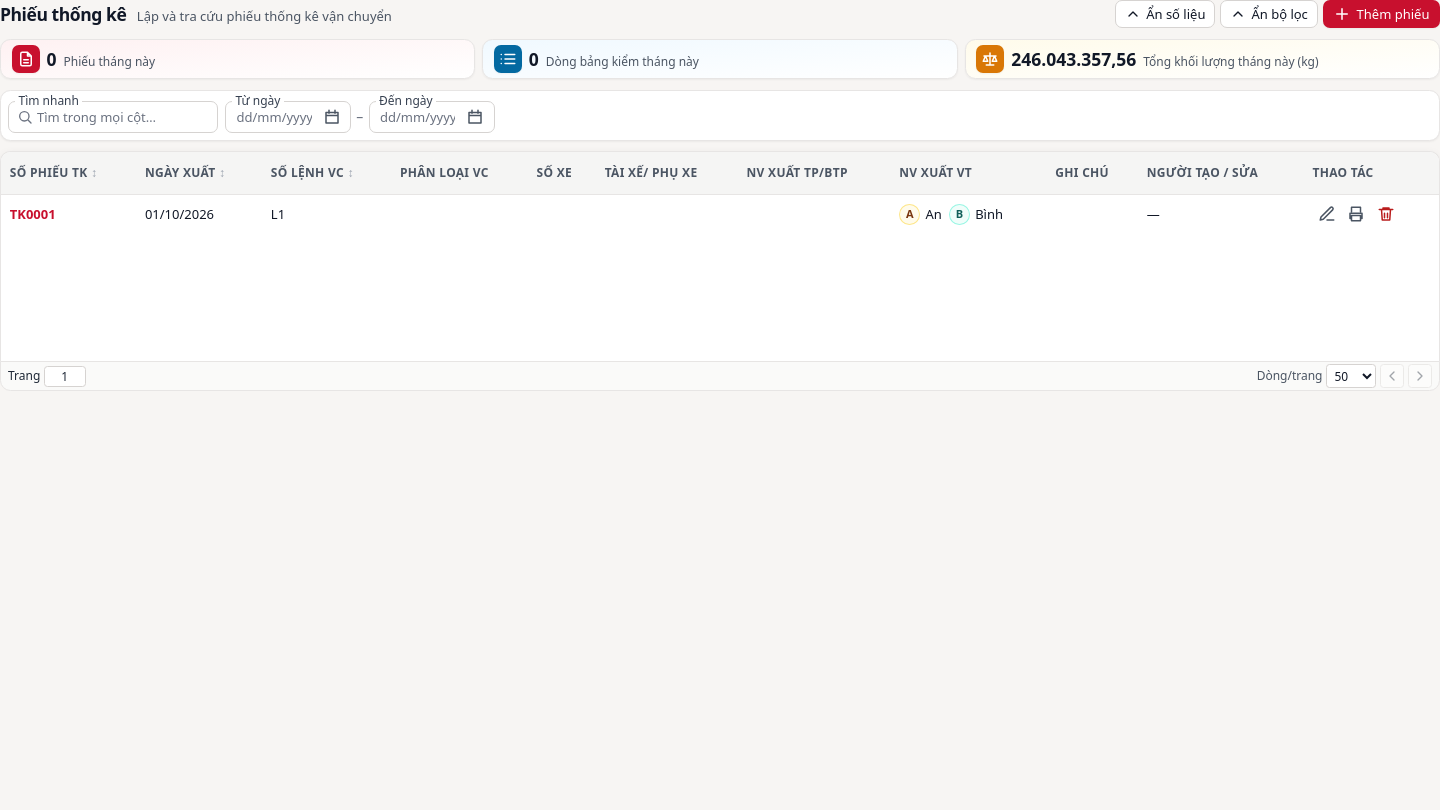
Test case: PlansPage › Sửa mở modal đổ sẵn dữ liệu; Hủy khi chưa đổi thì đóng không hỏi
Click the button with test id "edit-TK0001": (1326, 214) [1312, 200, 1340, 228]
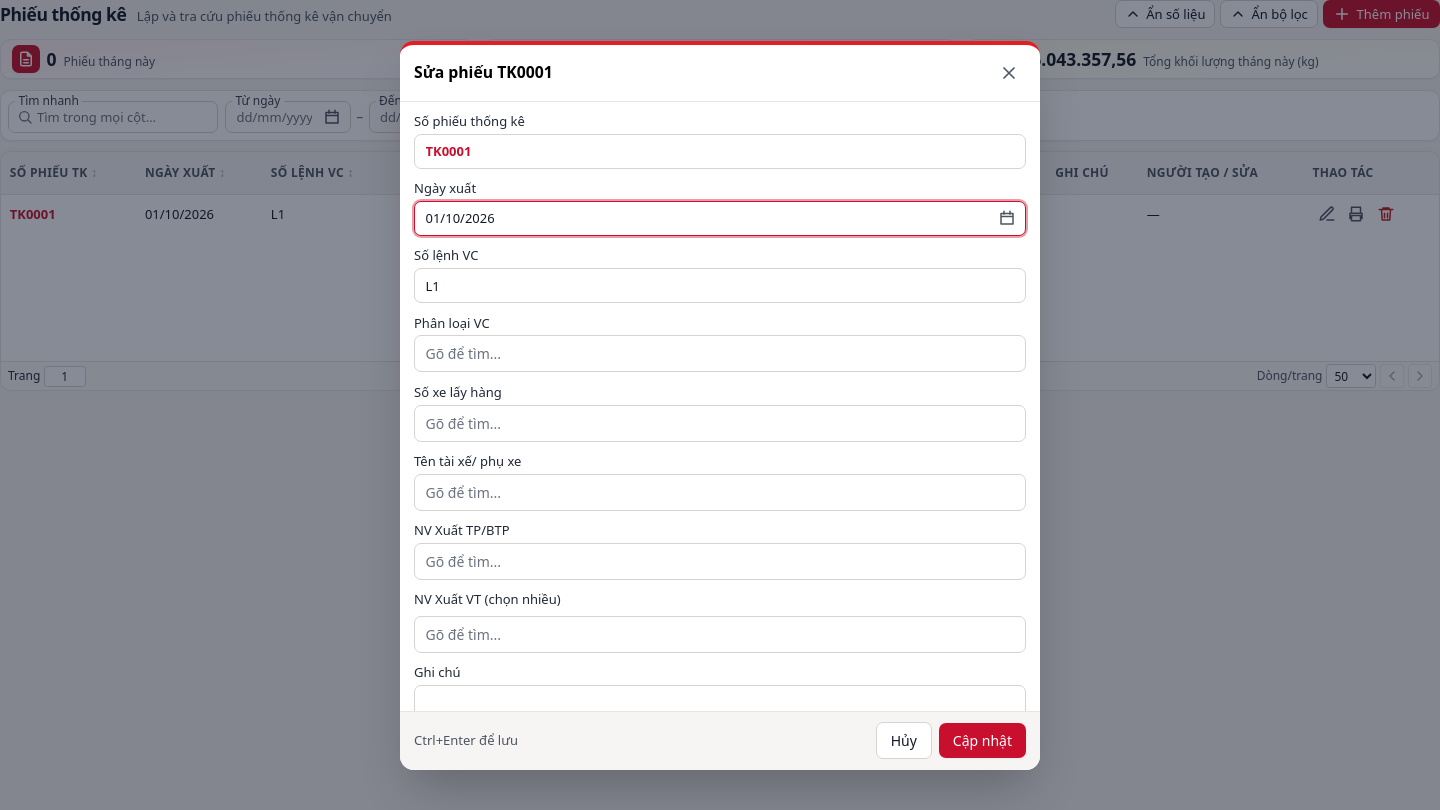
Result: the heading "Sửa phiếu TK0001" is shown at [414, 60, 553, 85]
Result: the field with test id "order-no" holds "L1" at [414, 268, 1026, 303]
Click the button with test id "plan-cancel": (904, 740) [876, 722, 932, 759]
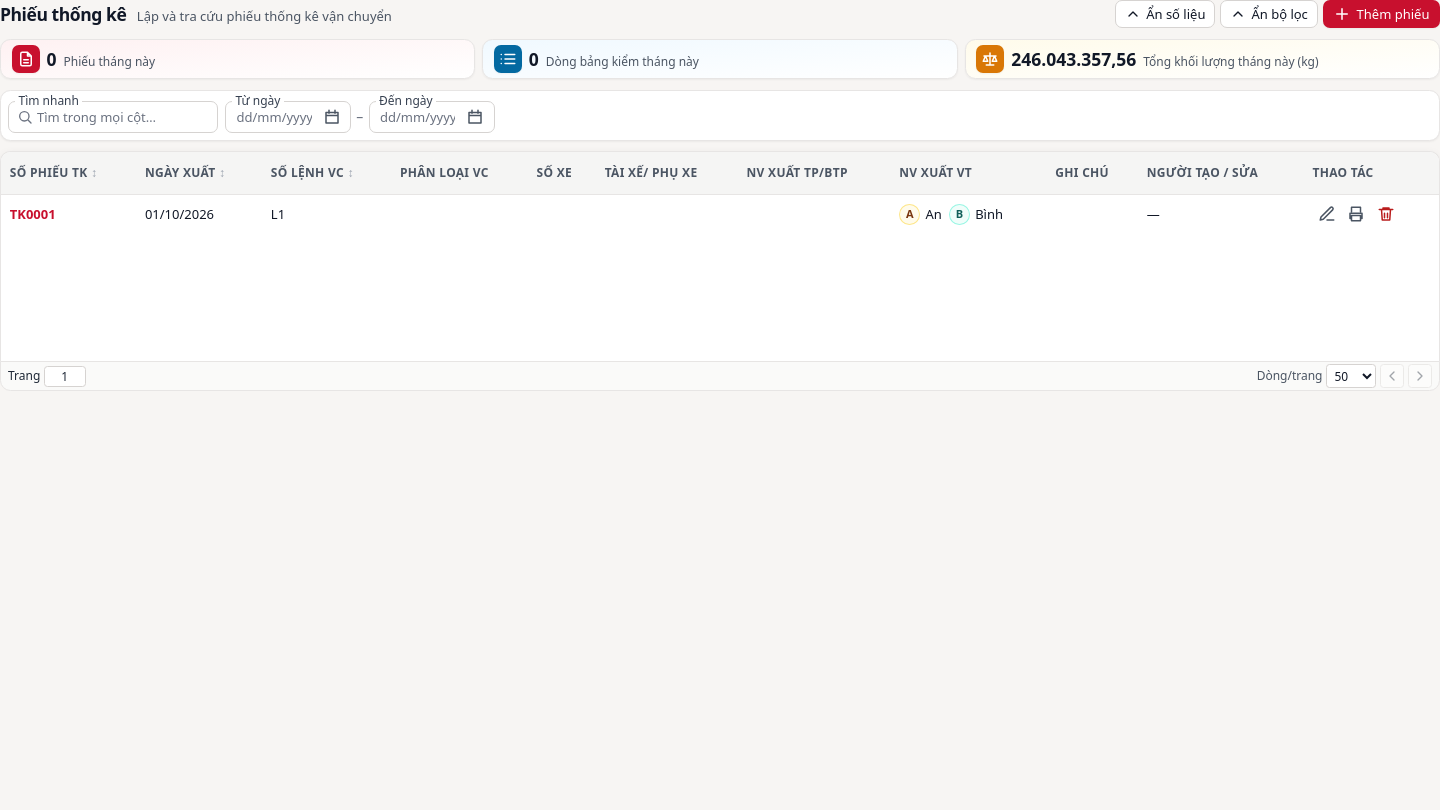
Result: the dialog with test id "plan-modal" is gone
